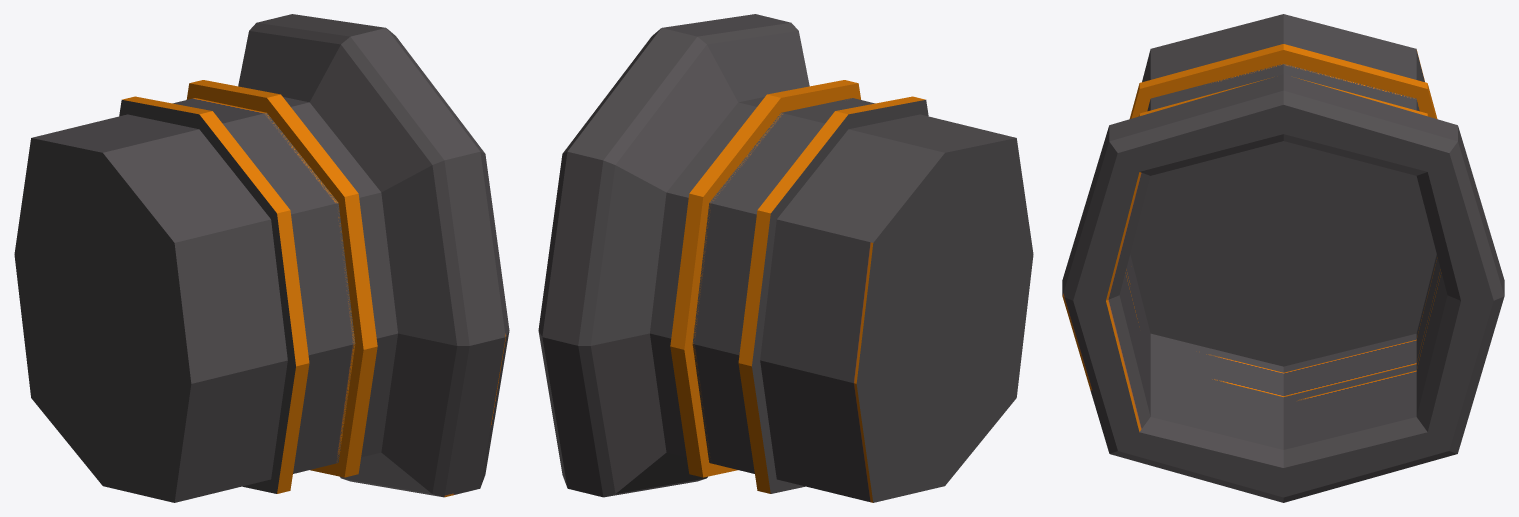
The model's file is entrance_tube.fbx.
3 views of the same model, side by side, from view 1: azimuth 30°, elevation 25°; view 2: azimuth 150°, elevation 25°; view 3: azimuth 270°, elevation 25° (orthographic). The views are drawn at different scales.
Parts seen in each view (by area): view 1: Entrance_pipe.001; view 2: Entrance_pipe.001; view 3: Entrance_pipe.001.
Boxes of the visible parts, left/top/right/bottom form: Entrance_pipe.001: left=14, top=14, right=509, bottom=502; Entrance_pipe.001: left=538, top=14, right=1033, bottom=502; Entrance_pipe.001: left=1062, top=14, right=1504, bottom=502.
Size of the model in its own units: 236 by 342 by 332.
Materials: 1 (1 with a texture image).
